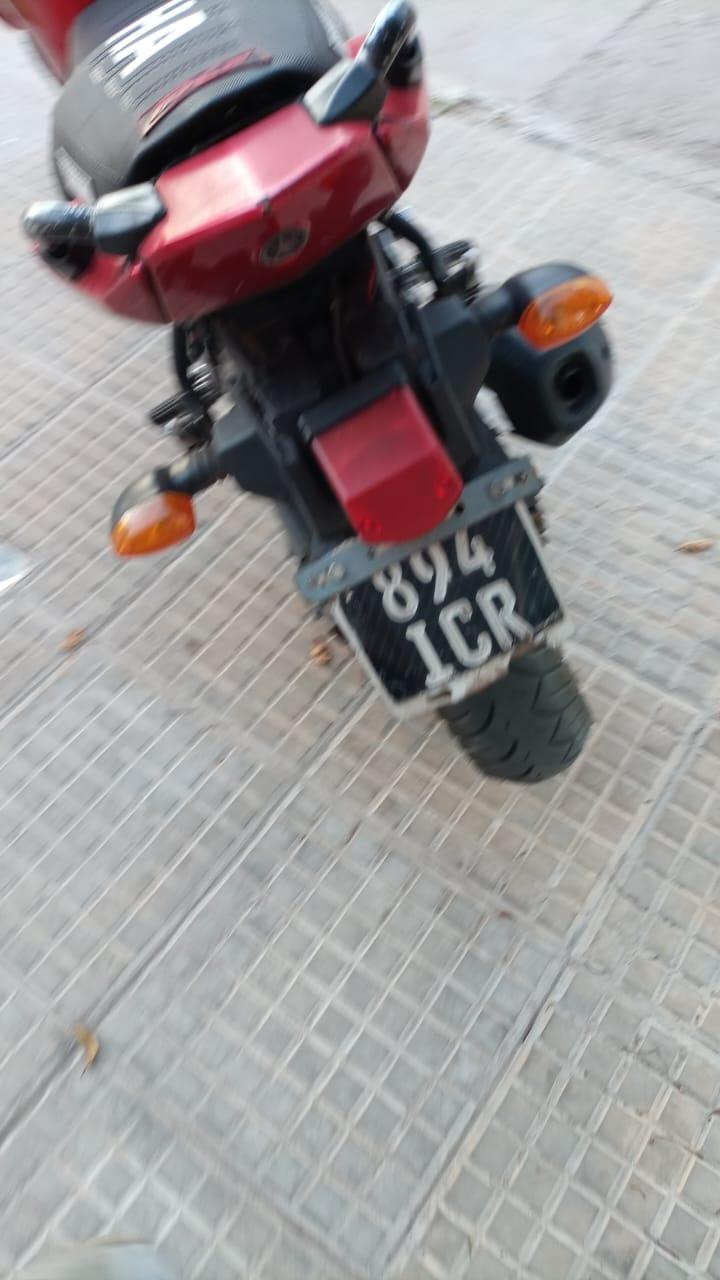matricula: (320, 504, 557, 707)
